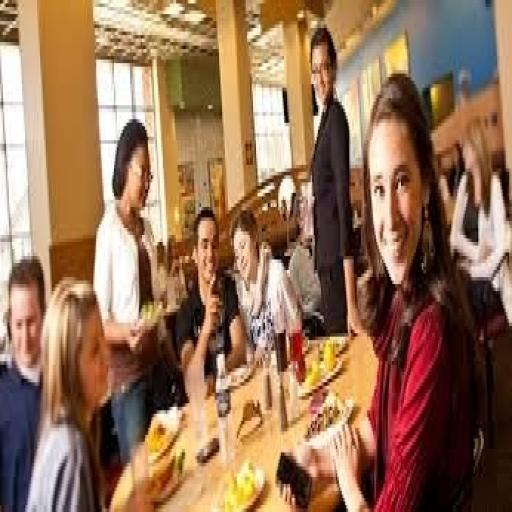eating: (286, 70, 480, 509)
